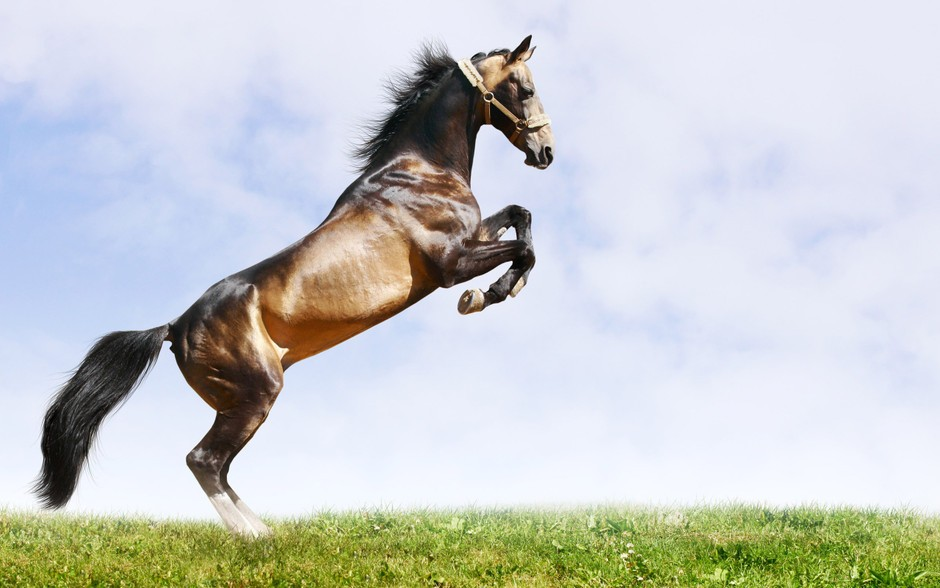horse: (29, 27, 559, 555)
